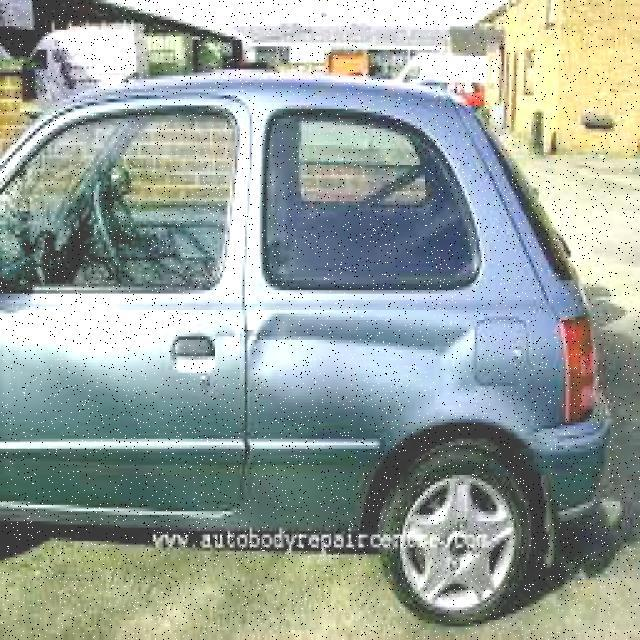car damage: (208, 307, 484, 407)
